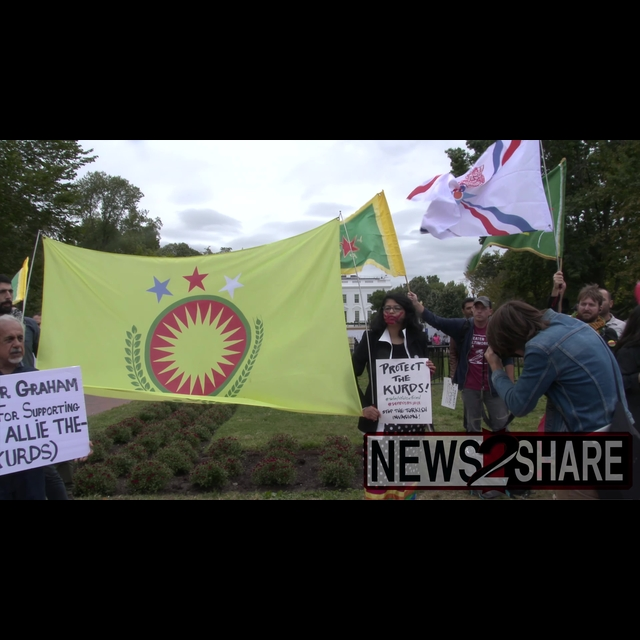YPJ: (338, 230, 370, 263)
